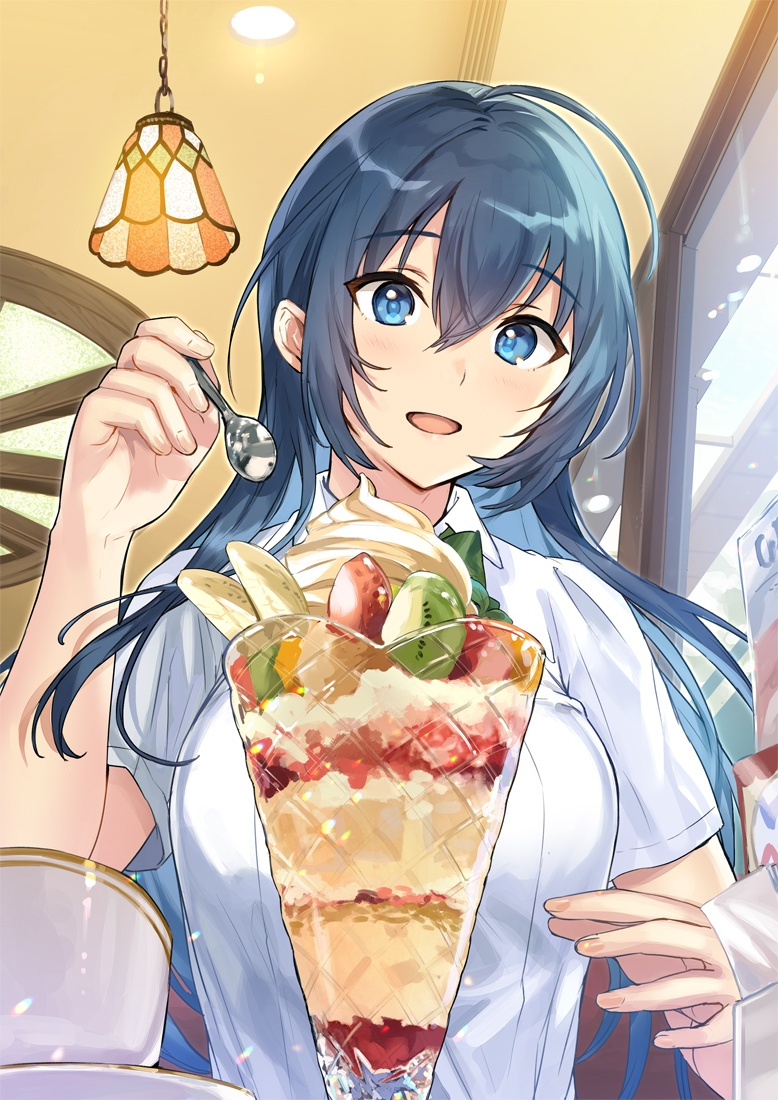纸片人正脸: (246, 83, 648, 509)
